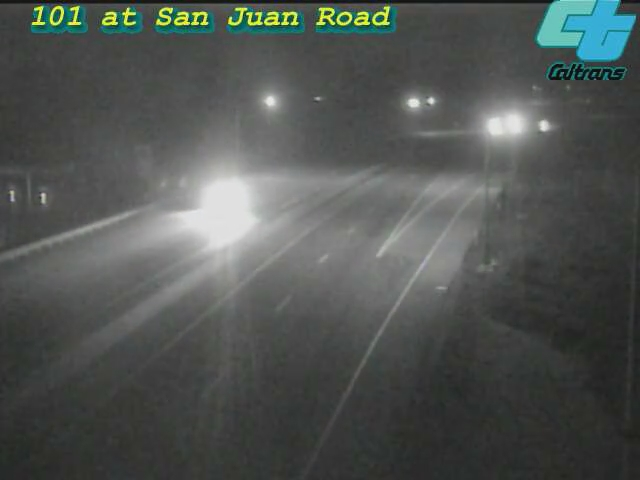vehicle: (184, 159, 264, 239), (517, 103, 567, 153), (470, 102, 520, 152), (491, 99, 541, 149)
